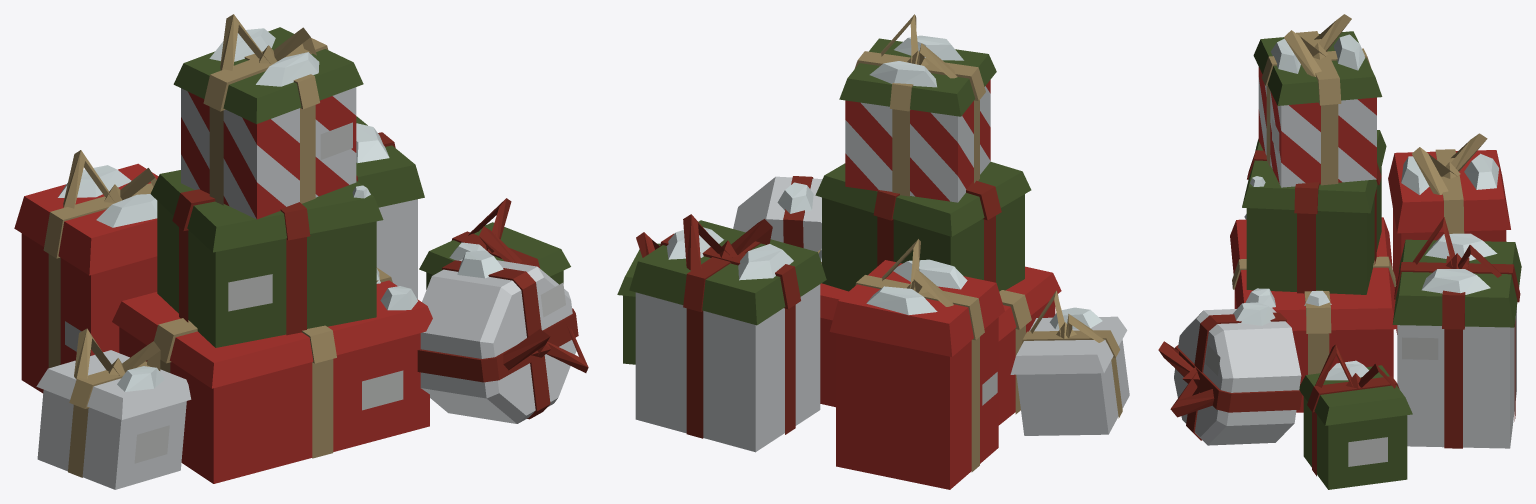
Rendered from wrapped-present-pile-b2ddd9.glb.
3 views of the same model, side by side, from view 1: azimuth 30°, elevation 25°; view 2: azimuth 150°, elevation 25°; view 3: azimuth 270°, elevation 25° (orthographic). The views are drawn at different scales.
Visible parts, largest first — view 1: present-pile; view 2: present-pile; view 3: present-pile.
Boxes of the visible parts, <box> form: present-pile: <box>14,14,588,489</box>; present-pile: <box>617,14,1129,489</box>; present-pile: <box>1158,14,1521,489</box>.
Bounding box in the file's own units: 1.38 × 1.01 × 0.9656.
